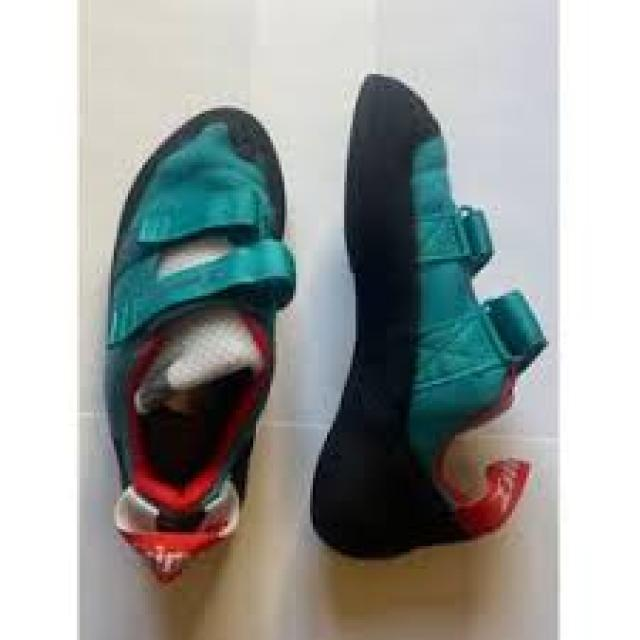climbing-shoes: (308, 69, 544, 561), (100, 103, 293, 583)
